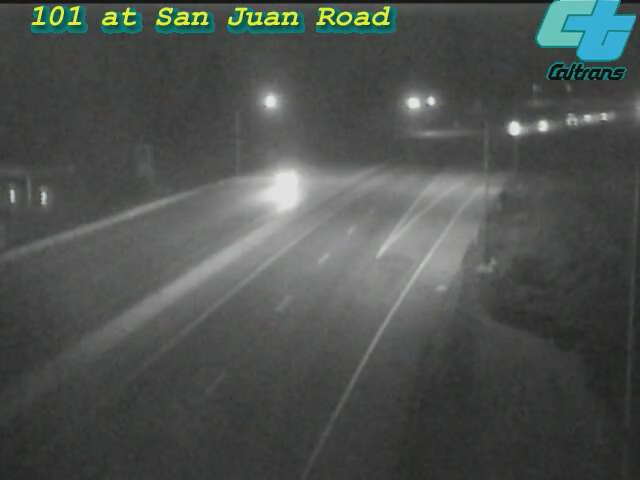vehicle: (249, 145, 329, 225), (580, 92, 630, 142), (564, 93, 614, 143), (545, 94, 595, 144), (522, 99, 572, 149), (488, 103, 538, 153)
